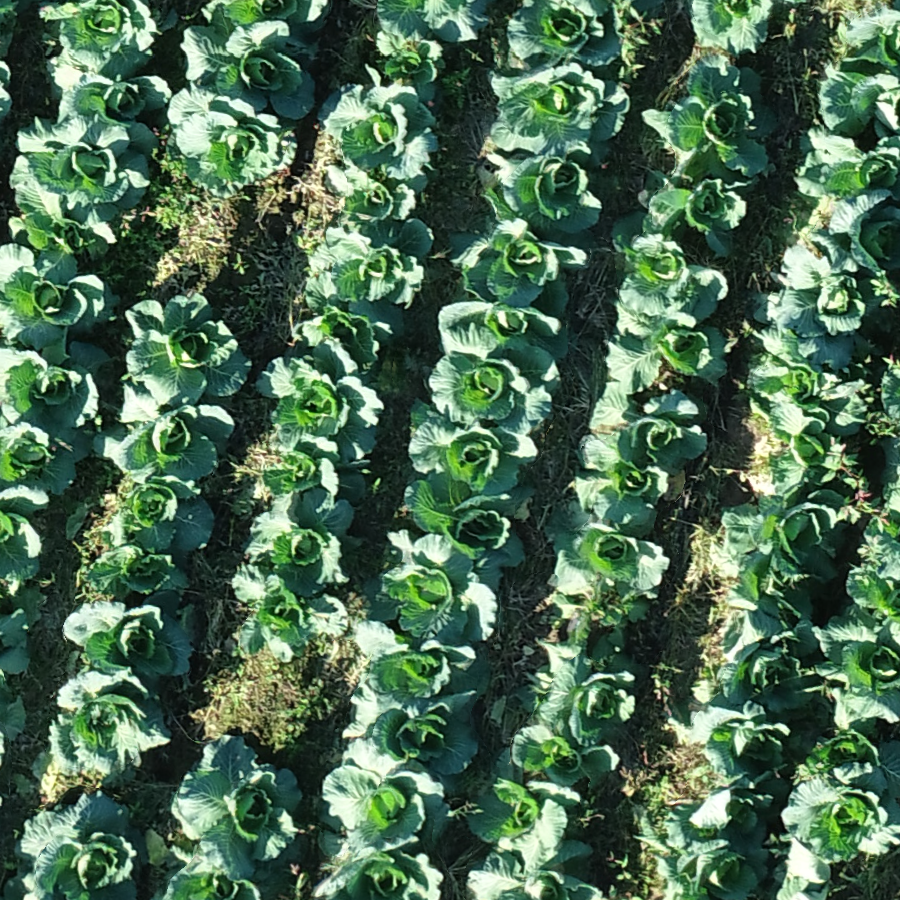Cabbage: (670, 693, 900, 860), (710, 466, 851, 621), (168, 736, 310, 881), (10, 115, 157, 246), (336, 620, 497, 738), (643, 57, 777, 185), (363, 528, 508, 645), (181, 0, 321, 118), (1, 793, 151, 900), (254, 340, 384, 463), (515, 627, 646, 749), (163, 80, 295, 199), (769, 246, 892, 371), (445, 216, 591, 318), (122, 296, 251, 408), (431, 324, 560, 435), (47, 672, 172, 785), (93, 381, 231, 483), (484, 61, 629, 157), (314, 219, 431, 337), (62, 590, 191, 696), (483, 145, 618, 245), (0, 242, 112, 361), (614, 211, 728, 324), (749, 325, 865, 435), (341, 690, 480, 781), (246, 491, 366, 596), (408, 402, 538, 498), (405, 472, 535, 567), (318, 767, 449, 861), (578, 378, 708, 472), (546, 502, 671, 597), (469, 747, 585, 849), (608, 297, 729, 394), (0, 341, 113, 442), (317, 84, 437, 179), (290, 270, 393, 379), (232, 564, 347, 660), (715, 609, 819, 712), (809, 605, 899, 723), (37, 0, 162, 80), (147, 831, 293, 899), (805, 701, 900, 802), (807, 191, 900, 294), (664, 778, 791, 852), (506, 0, 625, 72), (103, 478, 214, 554), (469, 841, 606, 900), (794, 126, 900, 201), (54, 64, 176, 128), (436, 302, 566, 360), (647, 177, 745, 253), (0, 418, 94, 496), (315, 846, 447, 900), (327, 166, 428, 235), (767, 404, 841, 496), (266, 438, 369, 504), (508, 725, 614, 788), (818, 60, 900, 140), (678, 838, 769, 900), (573, 465, 673, 521), (7, 211, 110, 265), (82, 547, 187, 599), (377, 0, 498, 42), (835, 0, 900, 78), (849, 519, 900, 617), (375, 31, 445, 102), (689, 0, 777, 55), (0, 485, 49, 583), (223, 0, 332, 32), (549, 593, 621, 640), (601, 589, 658, 632)
